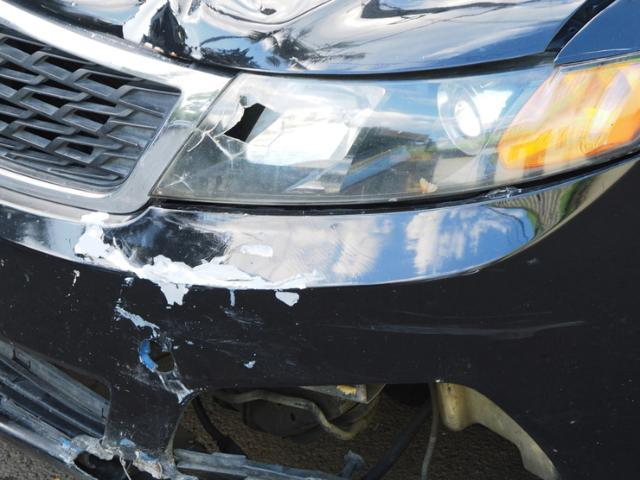Bonnet: (66, 0, 356, 67)
Bumper: (48, 202, 596, 480)
Light: (176, 77, 484, 203)
